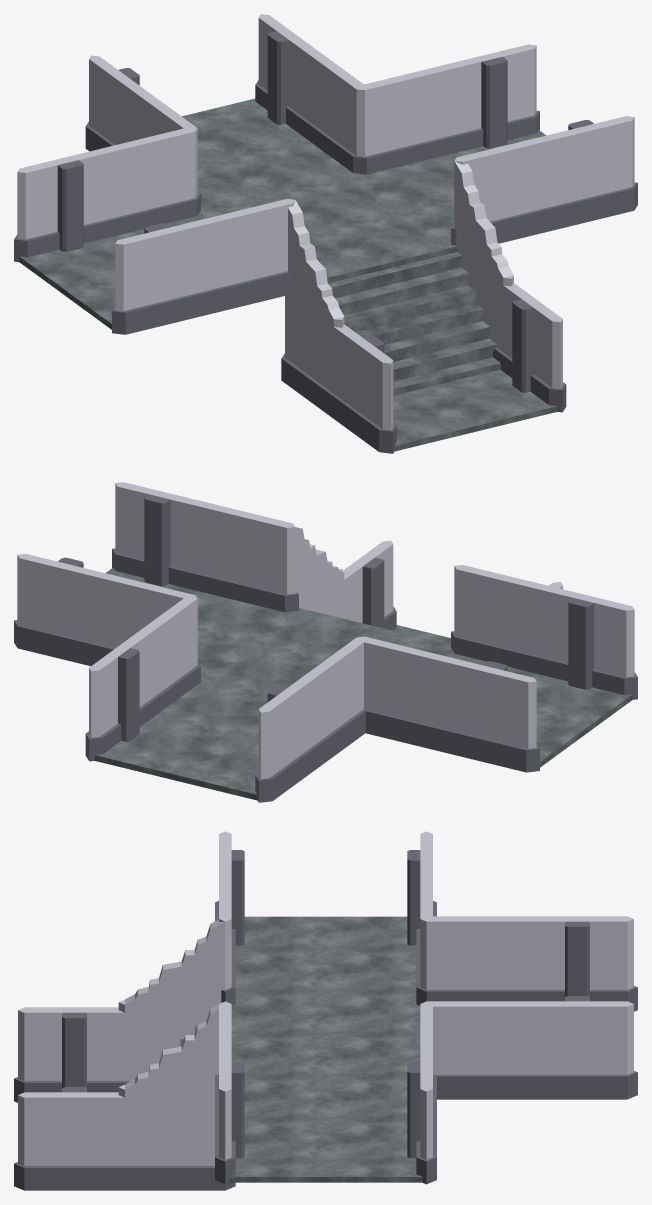
The model's file is intersection_4way_stair_04.fbx.
3 renders of one model, top to bottom at view 1: azimuth 30°, elevation 25°; view 2: azimuth 150°, elevation 25°; view 3: azimuth 270°, elevation 25°, orthographic. The views are drawn at different scales.
Visible parts, largest first — view 1: stairs_01_131, floor_01_129, floor_01_151, wall_02_144, wall_02_147, wall_02_143, wall_02_148, wall_01_140, wall_01_142, wall_01_139, floor_04_138, wall_01_141 (+8 smaller); view 2: floor_01_151, wall_02_147, wall_02_144, floor_01_129, wall_02_148, wall_01_141, wall_02_143, wall_01_142, wall_01_140, wall_02_155, wall_02_156, floor_01_135 (+6 smaller); view 3: stairs_01_131, floor_01_133, floor_01_129, floor_01_135, wall_02_156, wall_02_150, wall_01_153, wall_02_155, wall_02_146, wall_01_154, wall_02_148, wall_02_143 (+6 smaller).
Boxes of the visible parts, bbox=[...] form: stairs_01_131: bbox=[281, 157, 513, 415]; floor_01_129: bbox=[199, 171, 457, 283]; floor_01_151: bbox=[182, 98, 360, 210]; wall_02_144: bbox=[112, 219, 210, 334]; wall_02_147: bbox=[14, 148, 112, 261]; wall_02_143: bbox=[539, 116, 637, 231]; wall_02_148: bbox=[442, 44, 539, 153]; wall_01_140: bbox=[103, 127, 200, 236]; wall_01_142: bbox=[202, 199, 295, 313]; wall_01_139: bbox=[354, 65, 452, 174]; floor_04_138: bbox=[393, 369, 557, 451]; wall_01_141: bbox=[451, 136, 550, 245]; floor_01_151: bbox=[94, 679, 267, 800]; wall_02_147: bbox=[441, 657, 539, 772]; wall_02_144: bbox=[539, 585, 637, 699]; floor_01_129: bbox=[198, 608, 451, 700]; wall_02_148: bbox=[14, 553, 111, 666]; wall_01_141: bbox=[199, 503, 298, 612]; wall_02_143: bbox=[112, 482, 209, 591]; wall_01_142: bbox=[451, 565, 549, 674]; wall_01_140: bbox=[356, 636, 451, 751]; wall_02_155: bbox=[255, 672, 321, 802]; wall_02_156: bbox=[85, 631, 151, 761]; floor_01_135: bbox=[445, 650, 632, 767]; stairs_01_131: bbox=[118, 916, 235, 1190]; floor_01_133: bbox=[229, 1086, 422, 1182]; floor_01_129: bbox=[231, 1001, 420, 1091]; floor_01_135: bbox=[235, 916, 416, 1001]; wall_02_156: bbox=[527, 996, 637, 1099]; wall_02_150: bbox=[14, 1087, 128, 1190]; wall_01_153: bbox=[421, 1001, 532, 1099]; wall_02_155: bbox=[521, 916, 637, 1011]; wall_02_146: bbox=[14, 1007, 127, 1102]; wall_01_154: bbox=[416, 916, 530, 1001]; wall_02_148: bbox=[407, 1044, 436, 1184]; wall_02_143: bbox=[215, 1045, 244, 1184].
Bounding box in the file's own units: 62.05 × 20 × 62.05.
